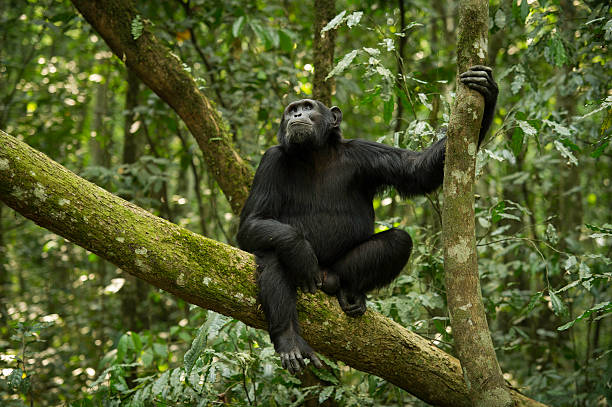chimpanzee: (268, 89, 355, 162)
